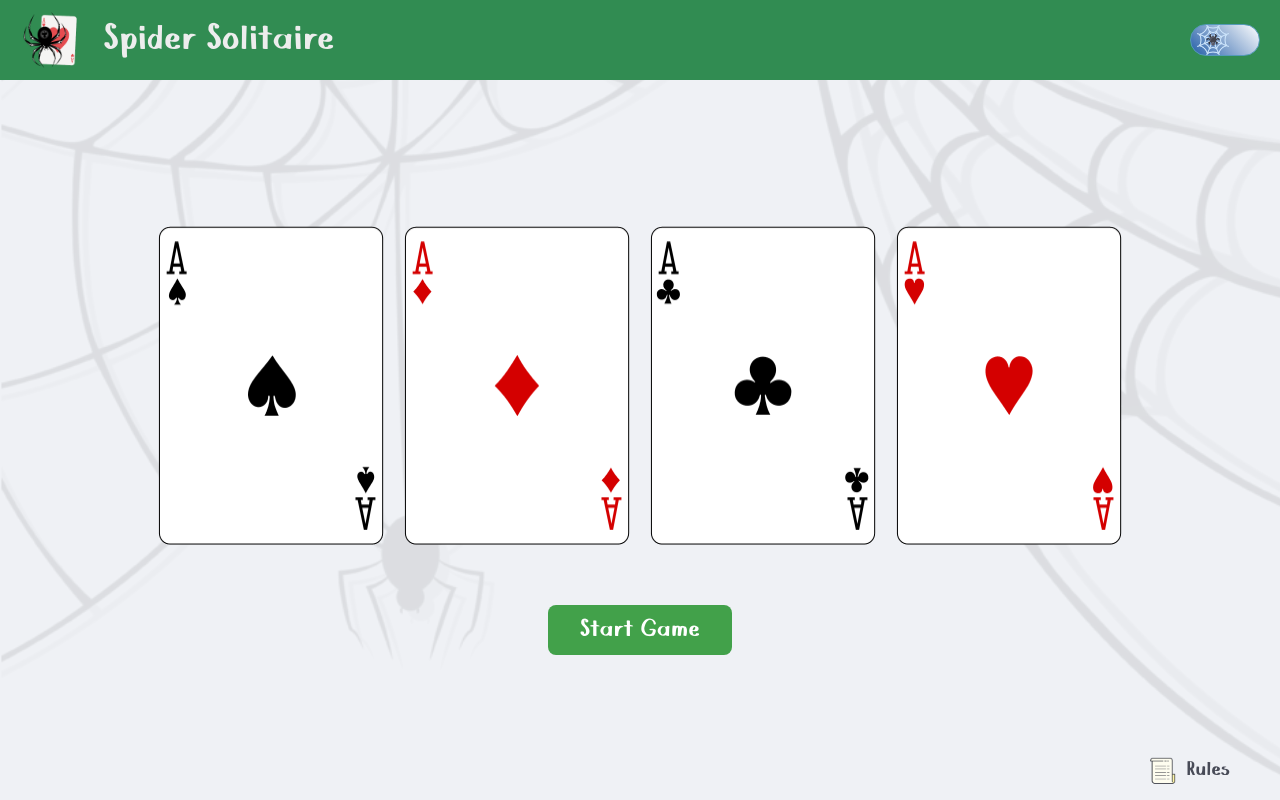
Scenario: HomePage › Should render modal when click the button without select a team
The width and height of the screenshot is (1280, 800).
Click the button "Start Game" at {"x": 640, "y": 630}, box [548, 605, 732, 655]
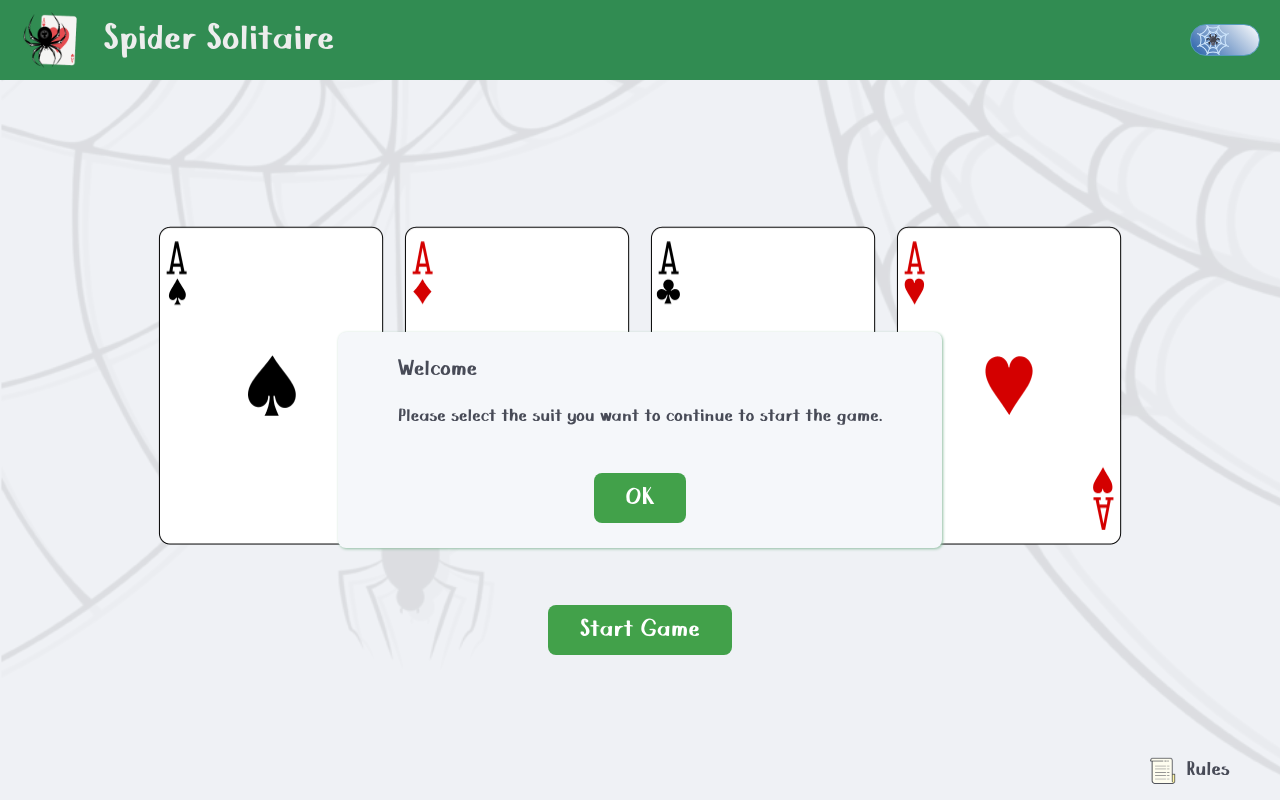
Expected: the element with id "modal" shows "Please select the suit you want to continue to start the game.", [338, 332, 942, 548]
